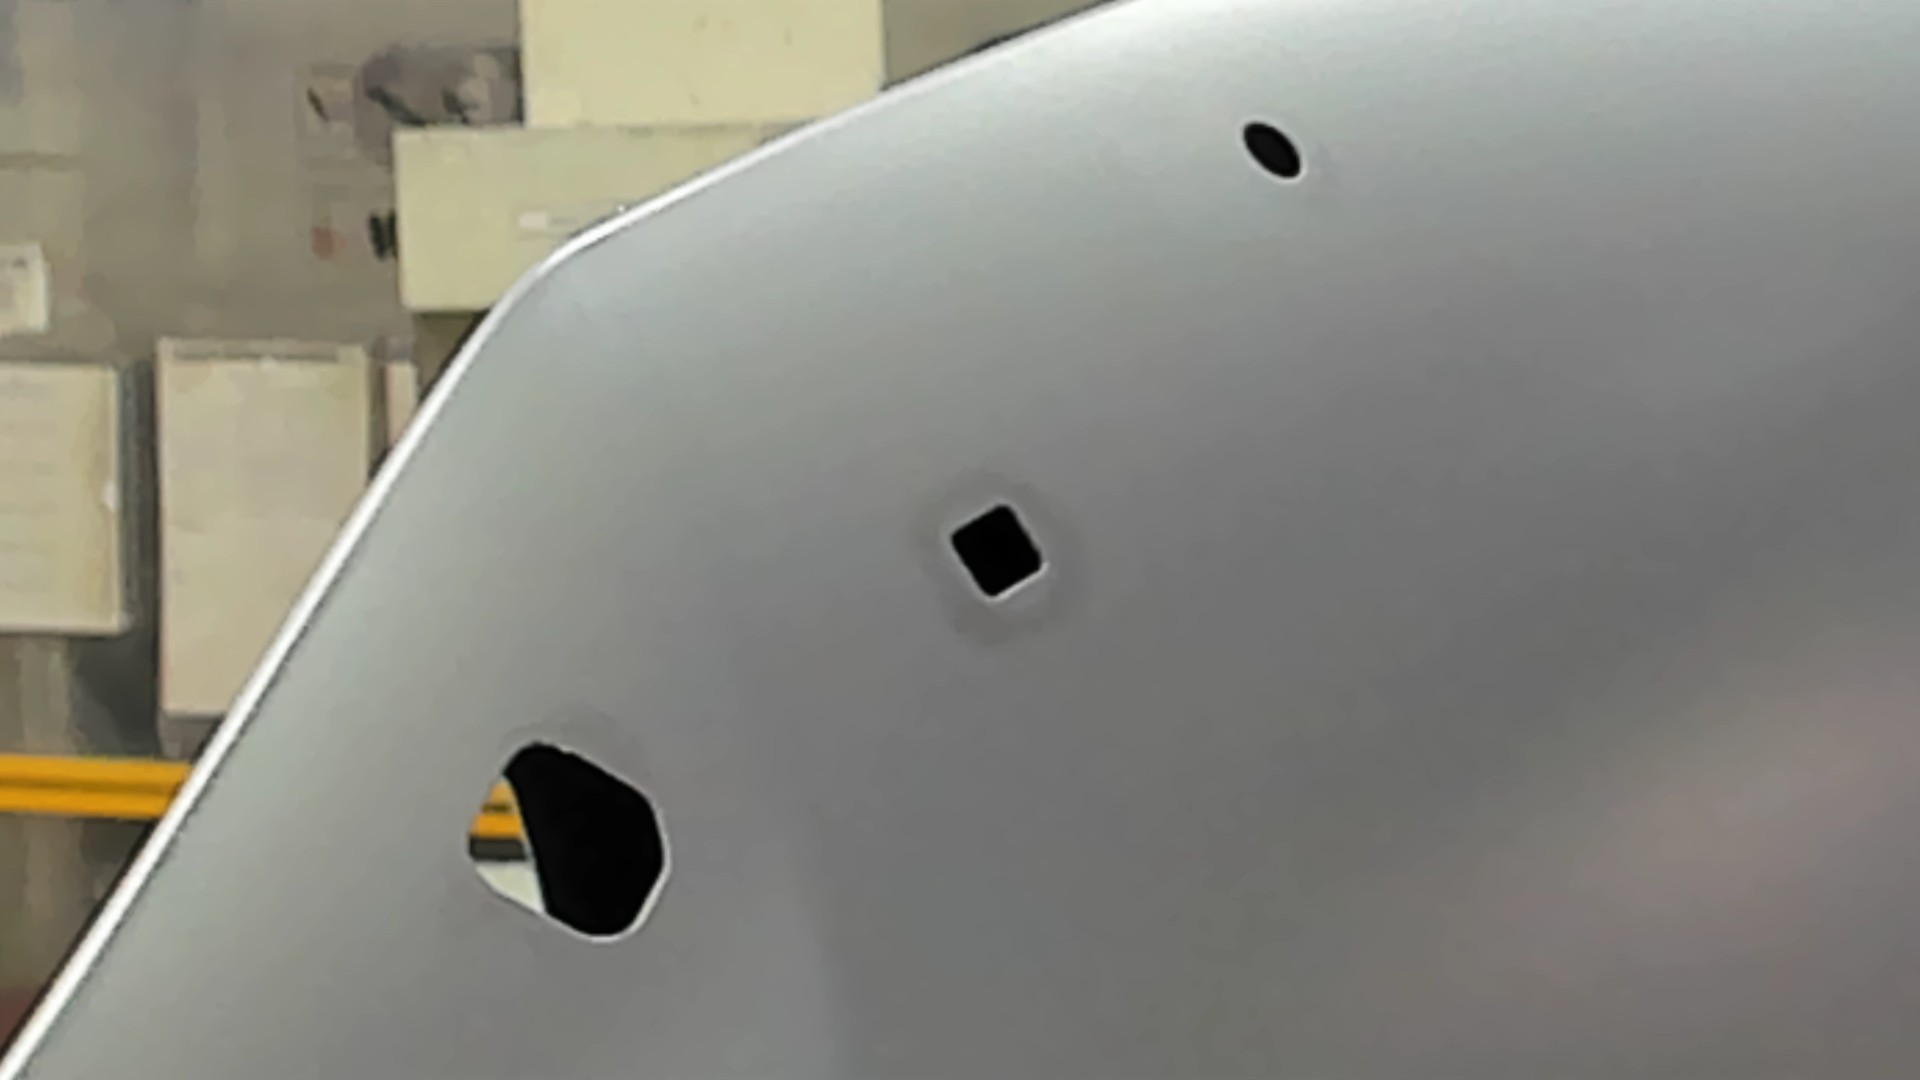capo: (1058, 189, 1920, 1080)
chico: (1236, 117, 1307, 186)
grande: (459, 736, 673, 951)
mediano: (943, 496, 1051, 607)
